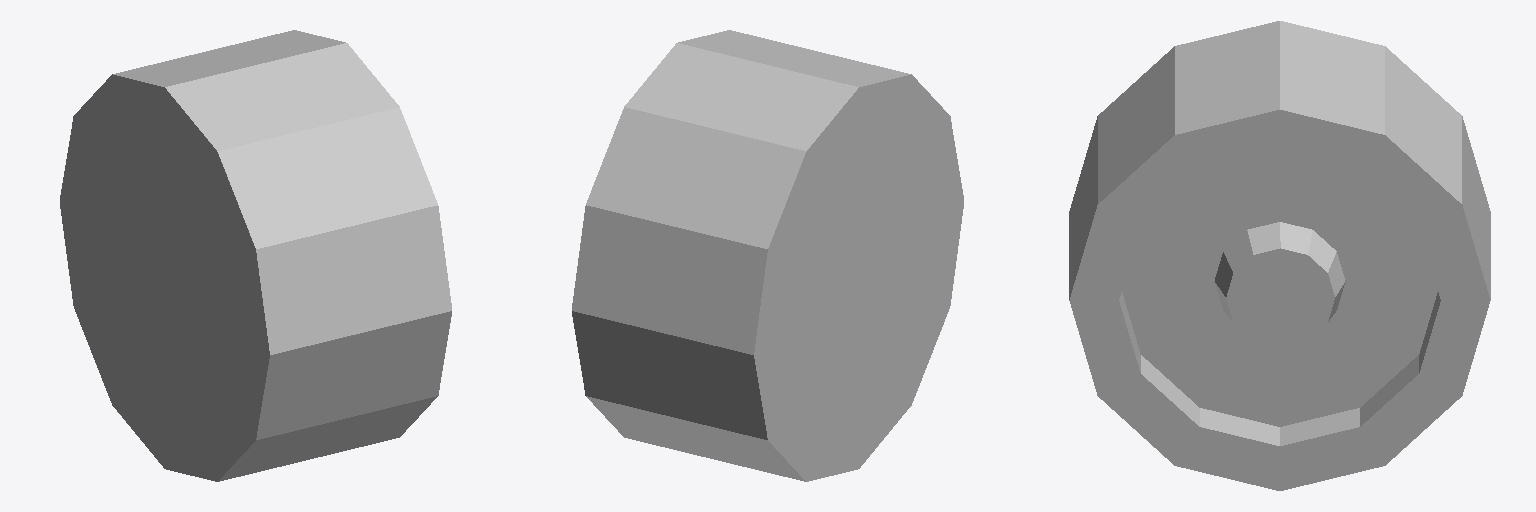
The model's file is wheel3.obj.
The picture shows the model from 3 angles: view 1: azimuth 30°, elevation 25°; view 2: azimuth 150°, elevation 25°; view 3: azimuth 270°, elevation 25°; orthographic projection.
Visible parts, largest first — view 1: tank; view 2: tank; view 3: tank.
Part boxes in pixels (bbox=[...]): tank: bbox=[60, 30, 451, 481]; tank: bbox=[572, 30, 963, 481]; tank: bbox=[1069, 21, 1490, 490].
Bounding box in the file's own units: 8.95 × 17.91 × 17.91.